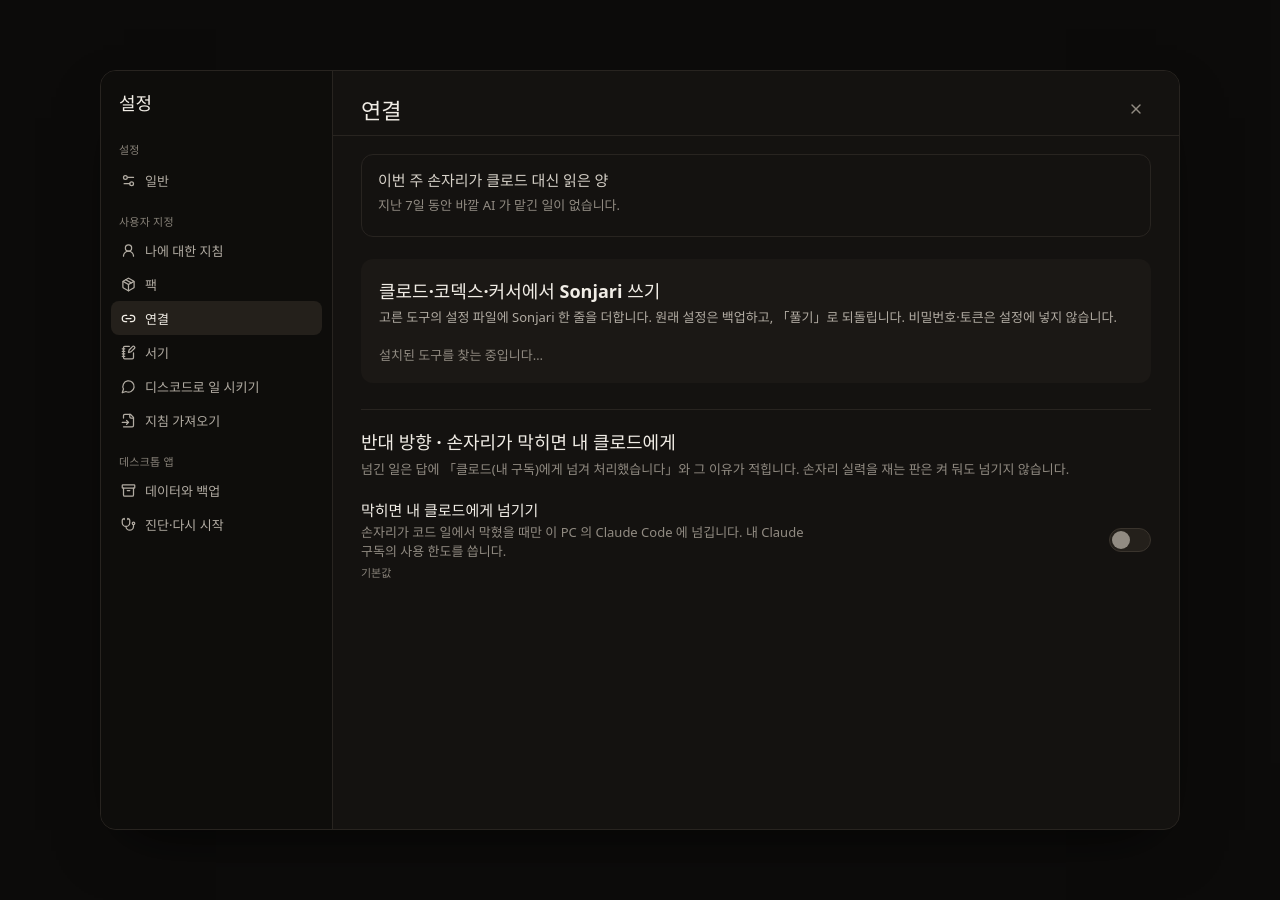
Test case: 서버가 켜기를 거절하면 코드 대신 사람 말로 알린다
Click the switch with id "setting-claude_code_enabled" at x=1130, y=540, box 1109,528 -> 1151,552
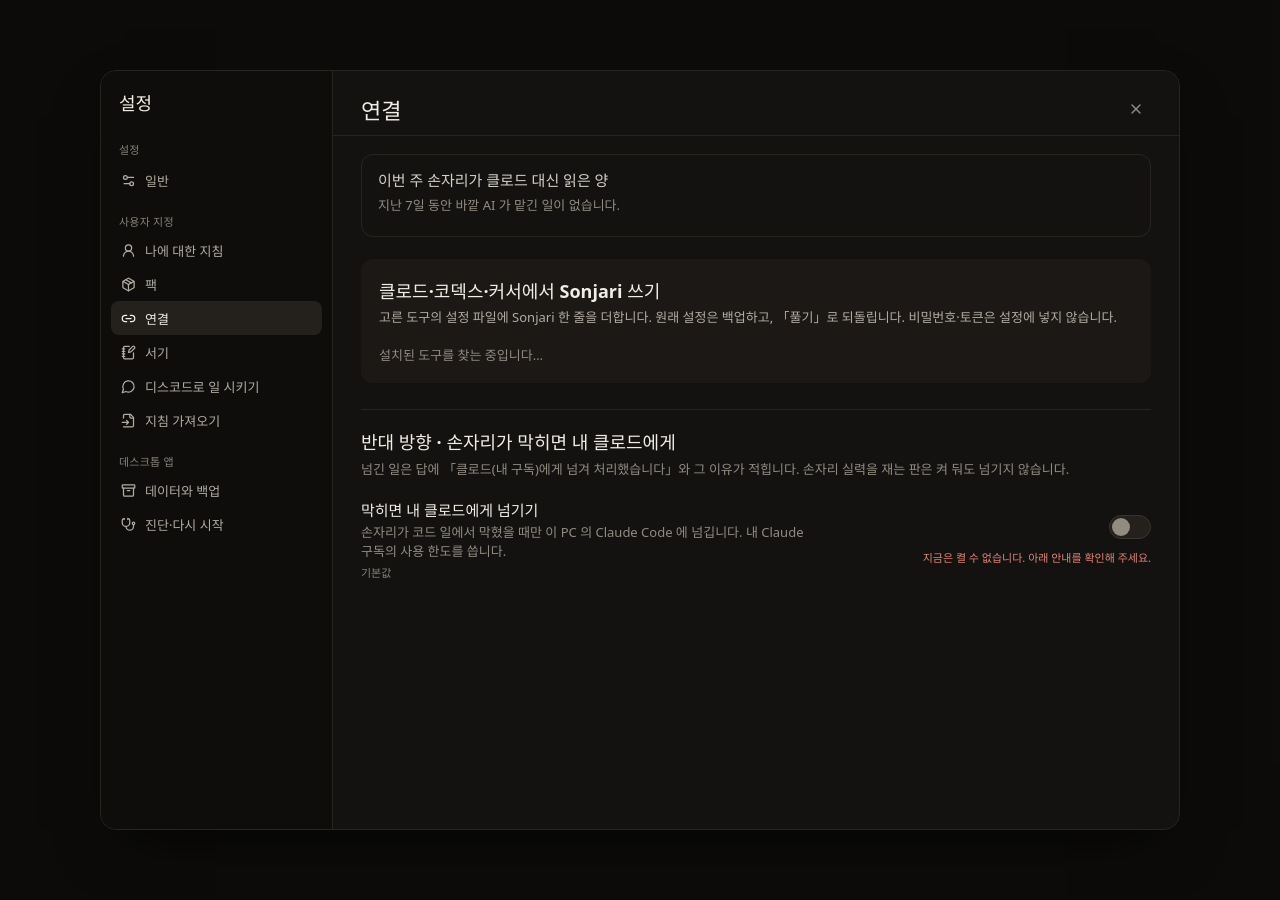
Check: the list item with id "setting-claude_code_enabled" shows "지금은 켤 수 없습니다", box 923,550 -> 1151,565
